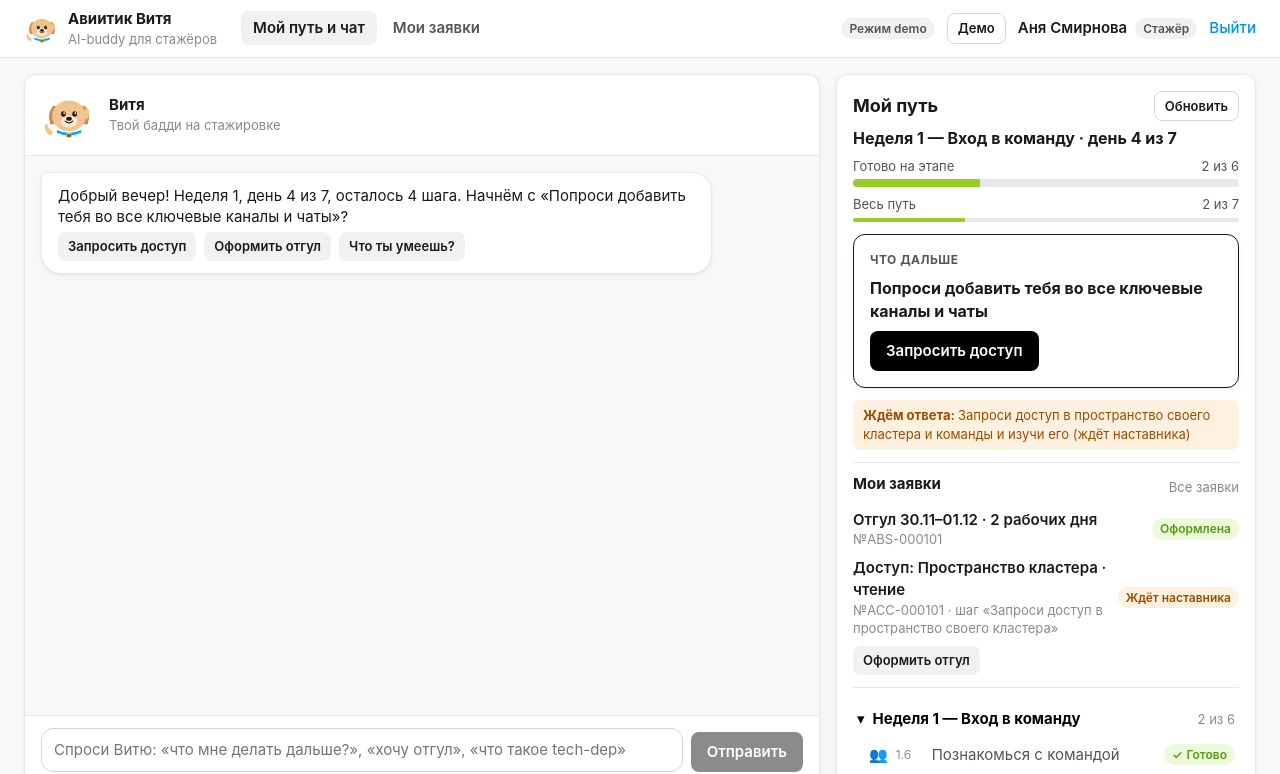
it: chat (wave 4) › error with a reply body renders the reply; 400 on a button is not retryable
Expected: the element with test id "greeting" is shown, [41,172,712,274]
Step 1. Type "что дальше" into the text box named "Сообщение Вите" → (362, 750), box [41,728,683,772]
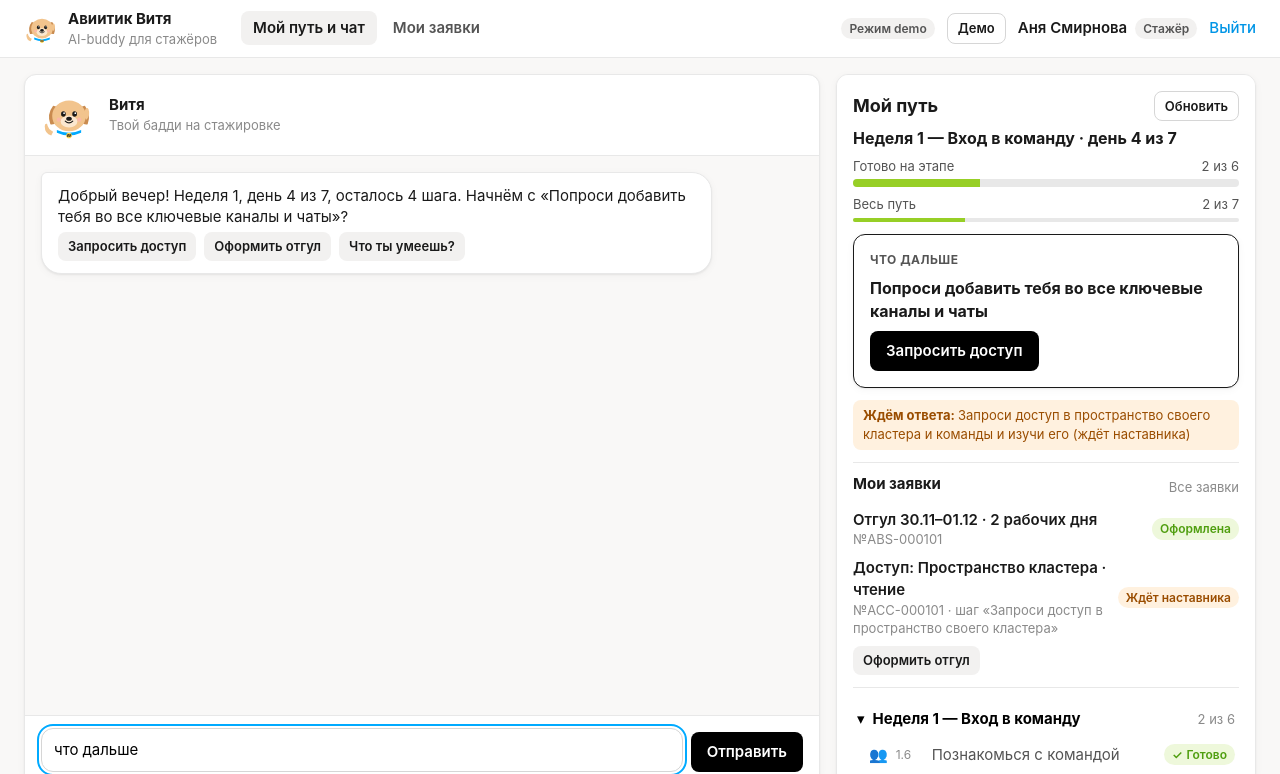
Step 2. Click the button "Отправить" → click(747, 752), box [691,732,803,772]
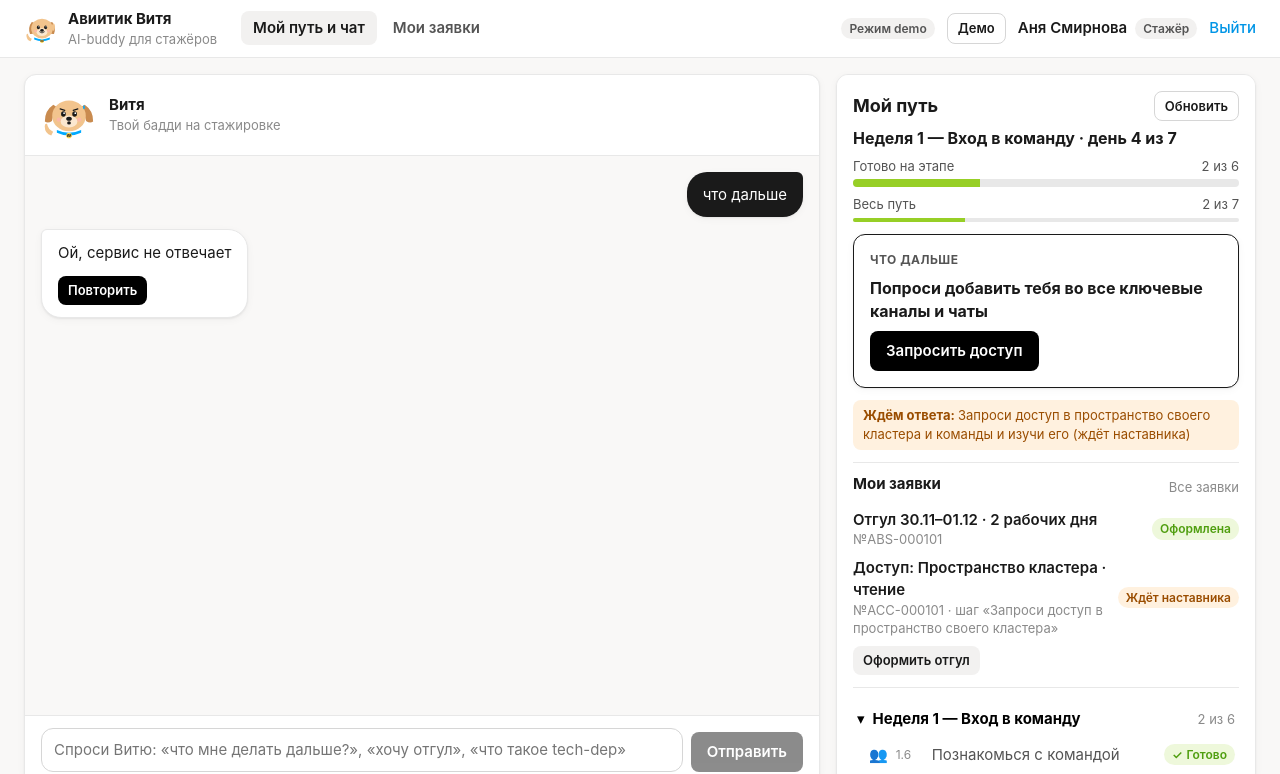
Now the text "Ой, сервис не отвечает" is shown, box [58,243,231,262]
Step 3. Click the button "Повторить" → click(103, 290), box [58,276,147,305]
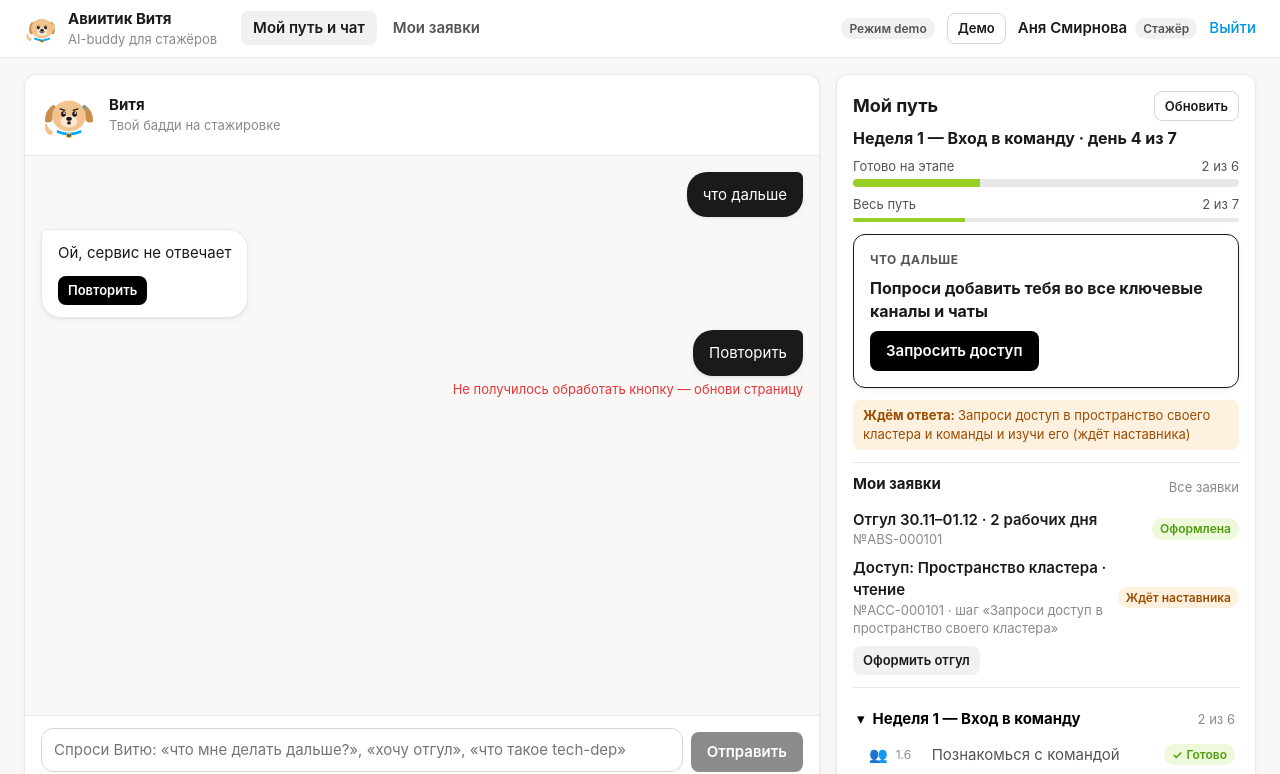
Now the number of buttons "Повторить" is 1, box [58,276,147,305]
Now the text "Не получилось обработать кнопку — обнови страницу" is shown, box [453,380,803,398]
